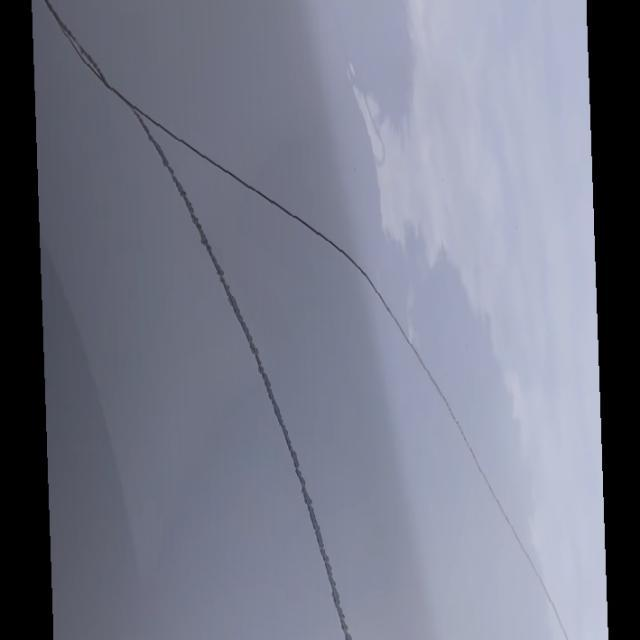crack: (165, 237, 316, 550), (257, 169, 445, 414)
